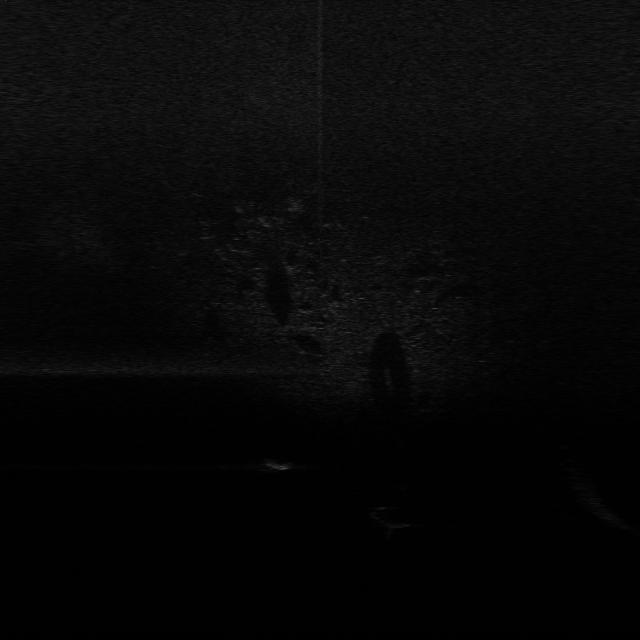square cage: (266, 452, 294, 472)
tyre: (372, 504, 416, 530)
